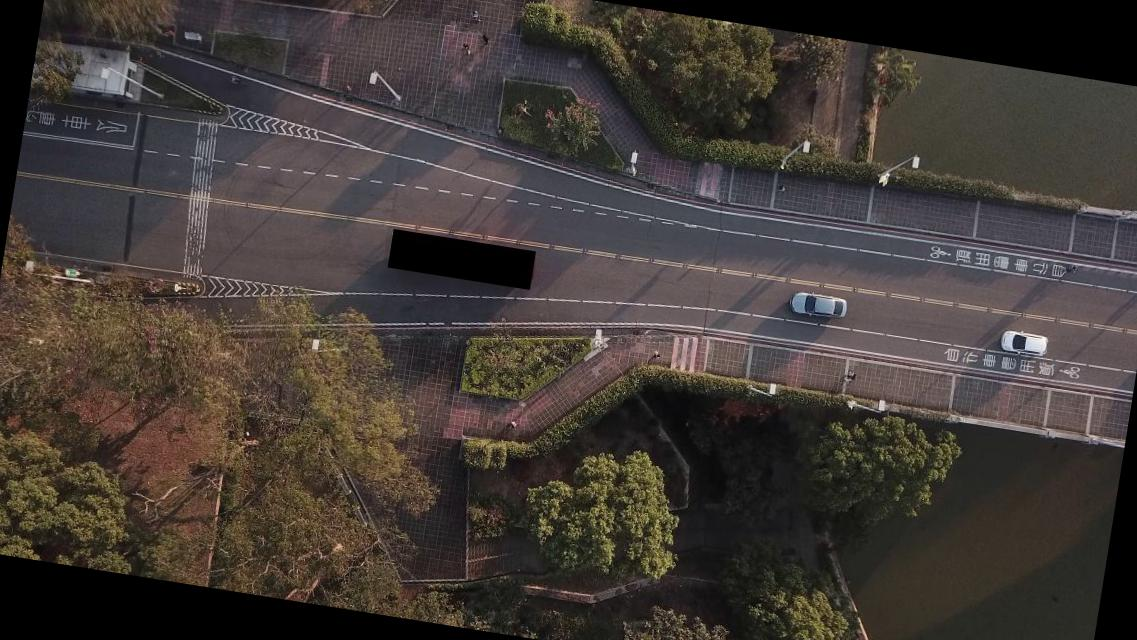vehicle: (789, 288, 850, 322), (998, 328, 1050, 358)
